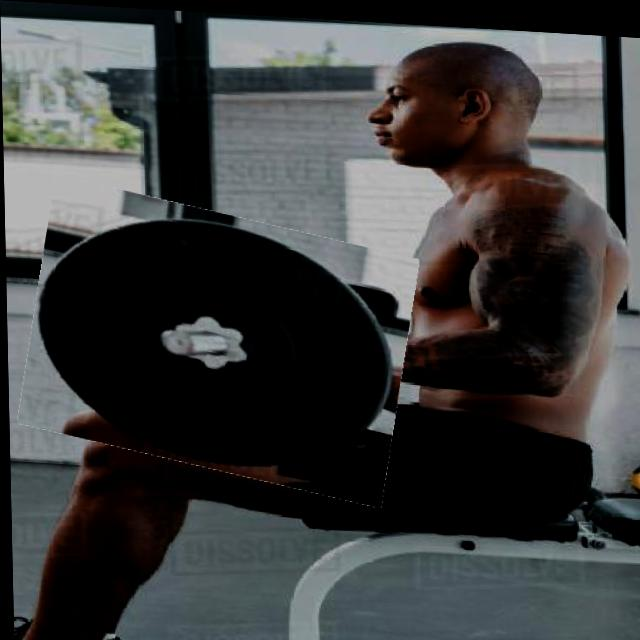barbell: (22, 188, 414, 491)
